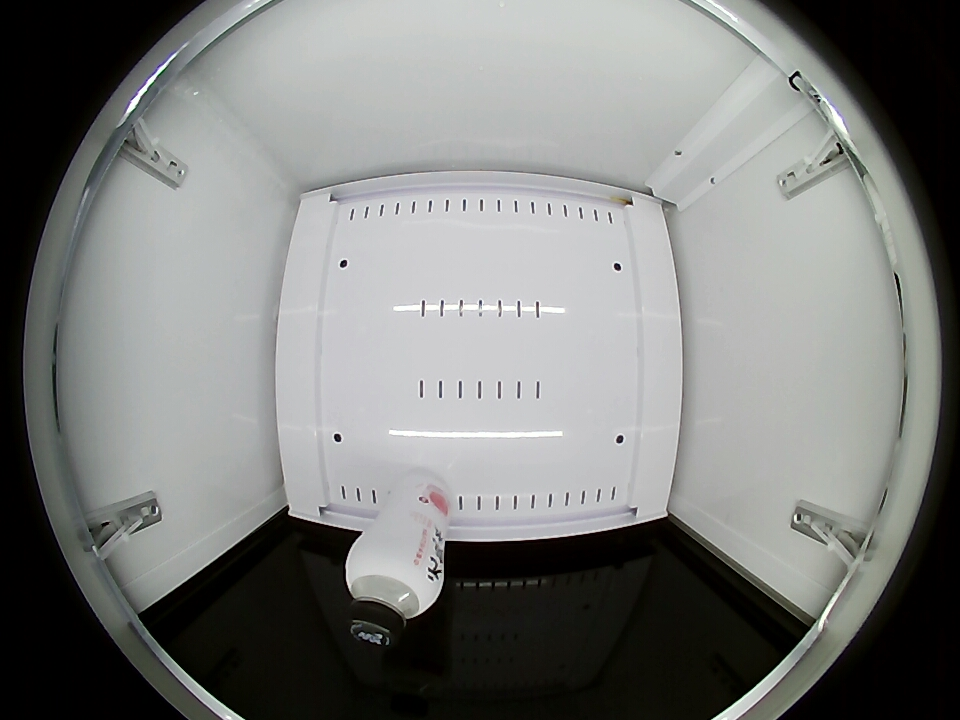yuanqishui: (344, 537, 444, 650)
